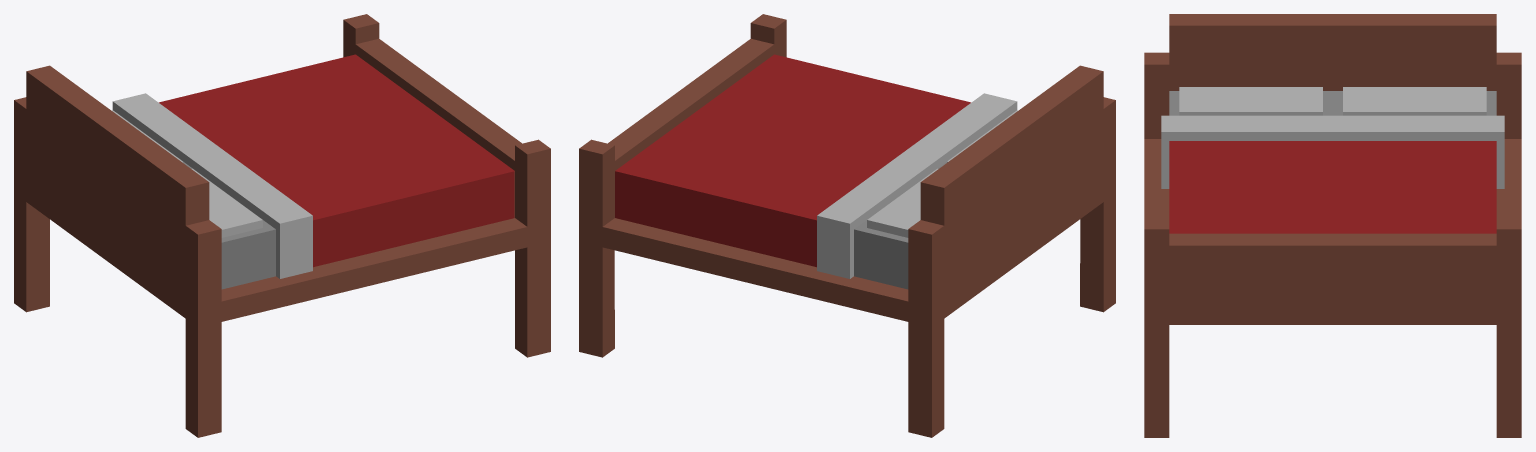
Rendered from bed.fbx.
The picture shows the model from 3 angles, left to right: view 1: azimuth 30°, elevation 25°; view 2: azimuth 150°, elevation 25°; view 3: azimuth 270°, elevation 25°; orthographic projection. The views are drawn at different scales.
Visible parts, largest first — view 1: Cube.001; view 2: Cube.001; view 3: Cube.001.
Part boxes in pixels (x1,y1,x2,y2): Cube.001: [14, 14, 550, 437]; Cube.001: [579, 14, 1115, 437]; Cube.001: [1144, 14, 1521, 437].
Size of the model in its own units: 872 by 569 by 788.
